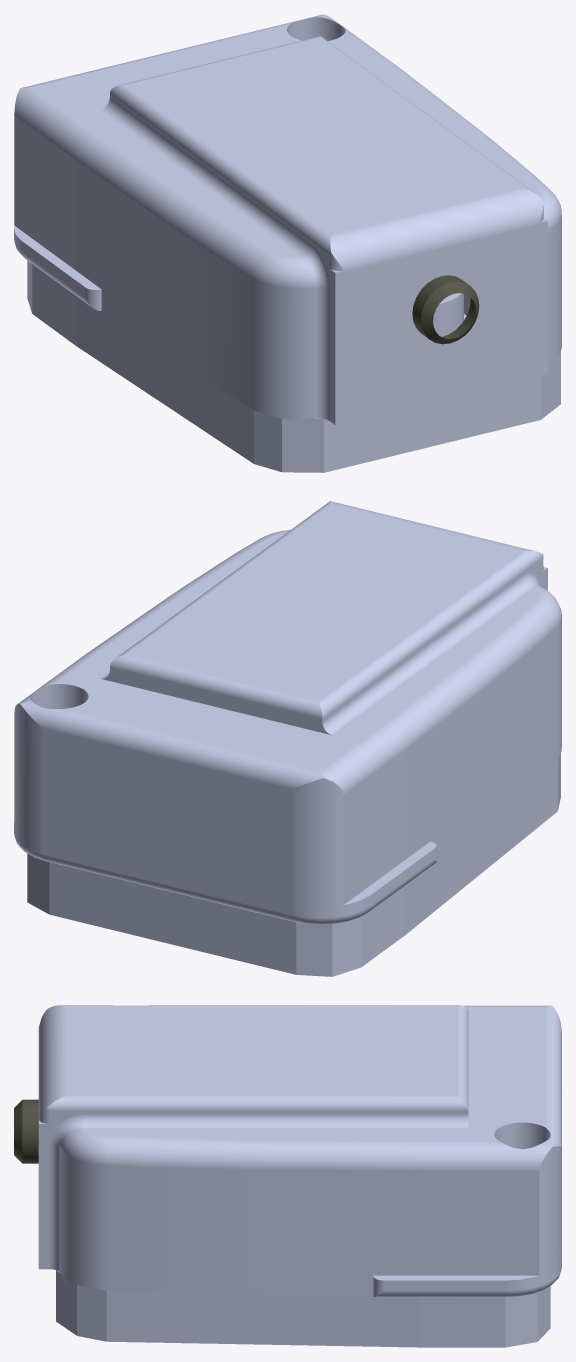
File: housing_Classic_body.dae
The picture shows the model from 3 angles, top to bottom: view 1: azimuth 30°, elevation 25°; view 2: azimuth 150°, elevation 25°; view 3: azimuth 270°, elevation 25°; orthographic projection. The views are drawn at different scales.
Visible parts, largest first — view 1: Actor0; view 2: Actor0; view 3: Actor0.
Part boxes in pixels (x1,y1,x2,y2): Actor0: [14, 14, 561, 472]; Actor0: [14, 501, 561, 976]; Actor0: [14, 1005, 561, 1347].
Bounding box in the file's own units: 0.0682 × 0.0431 × 0.0972.
